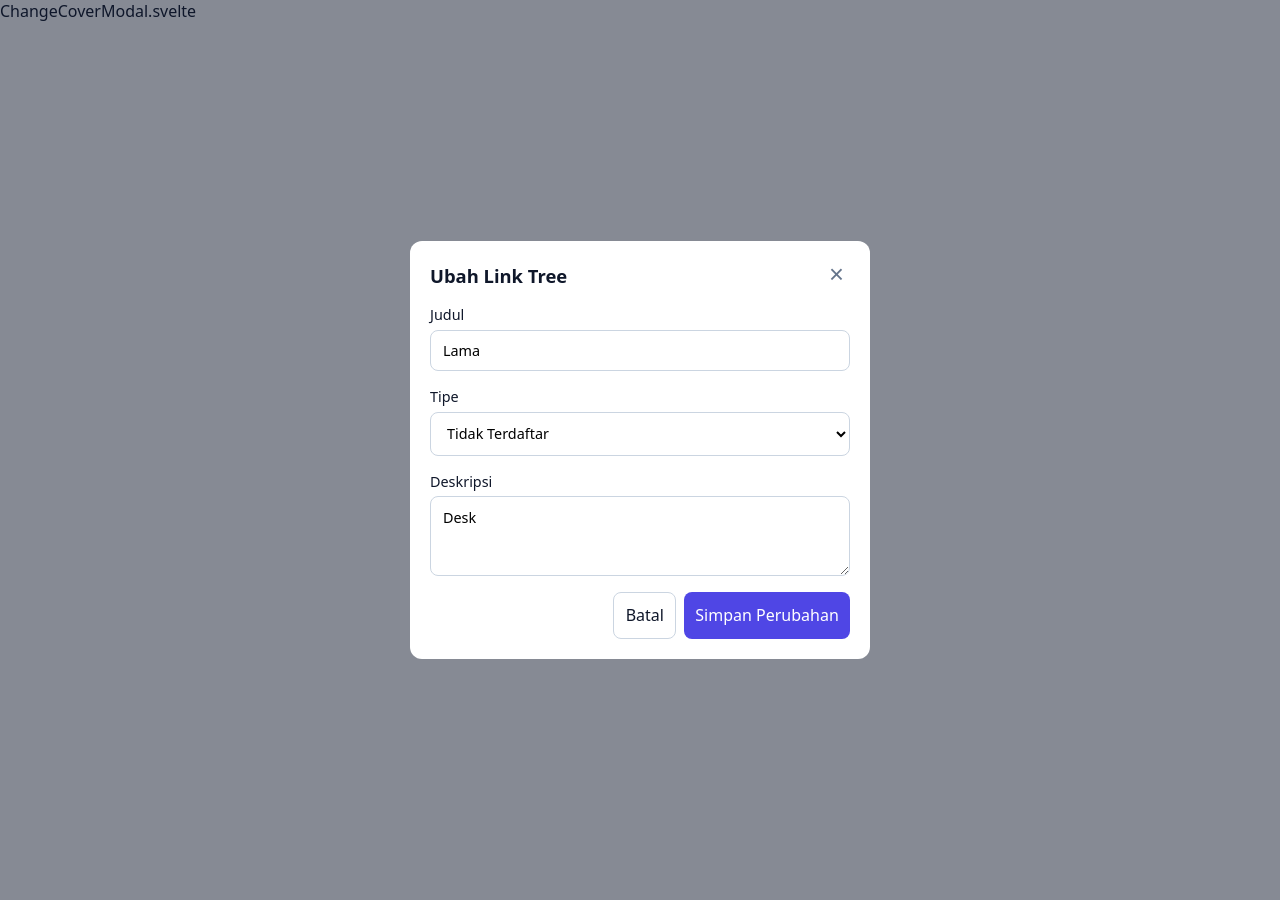
Test case: ChangeModal › menolak judul kosong
Clear the field labelled "Judul": (640, 350) [430, 330, 850, 371]
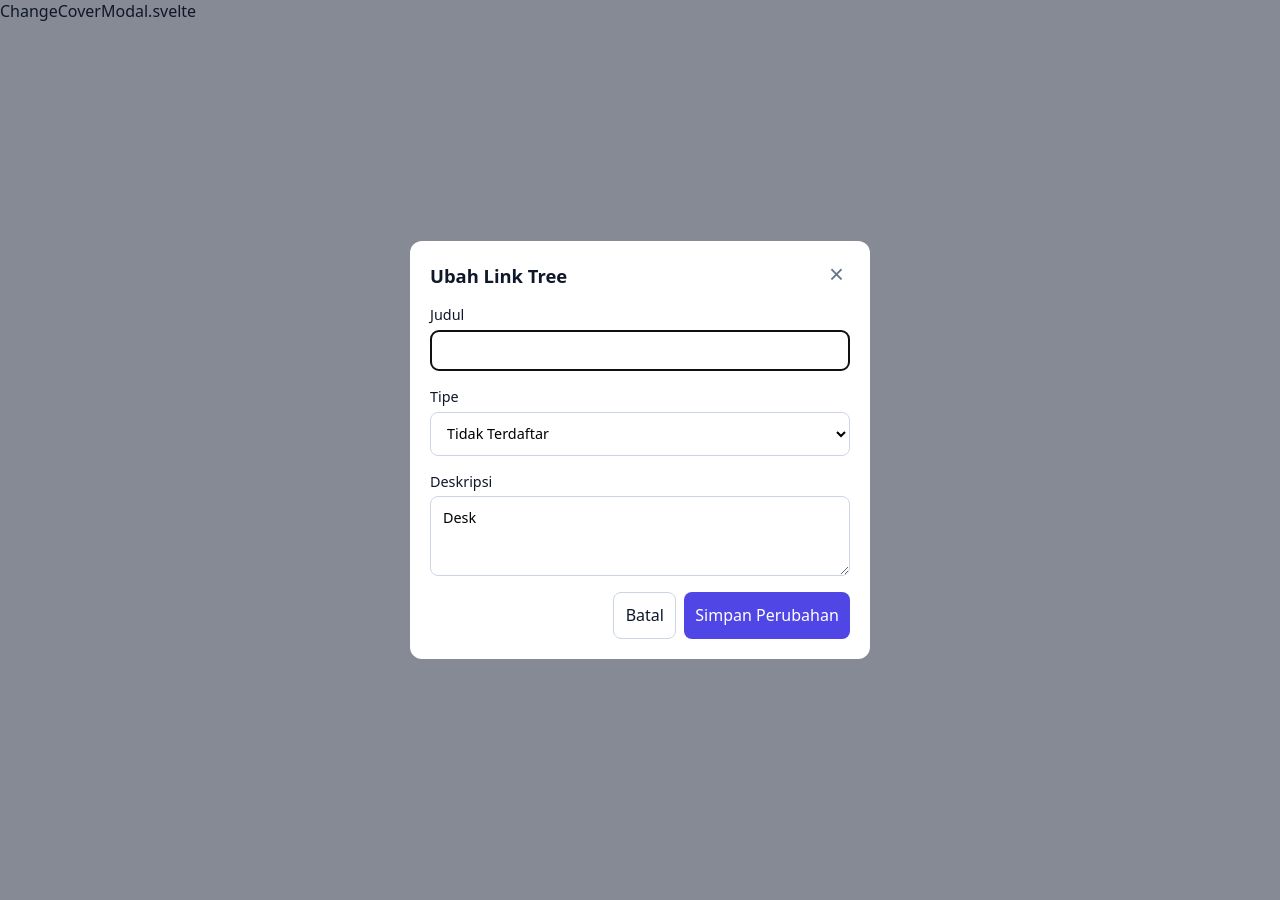
Click the button "Simpan Perubahan": (767, 615) [684, 592, 850, 639]
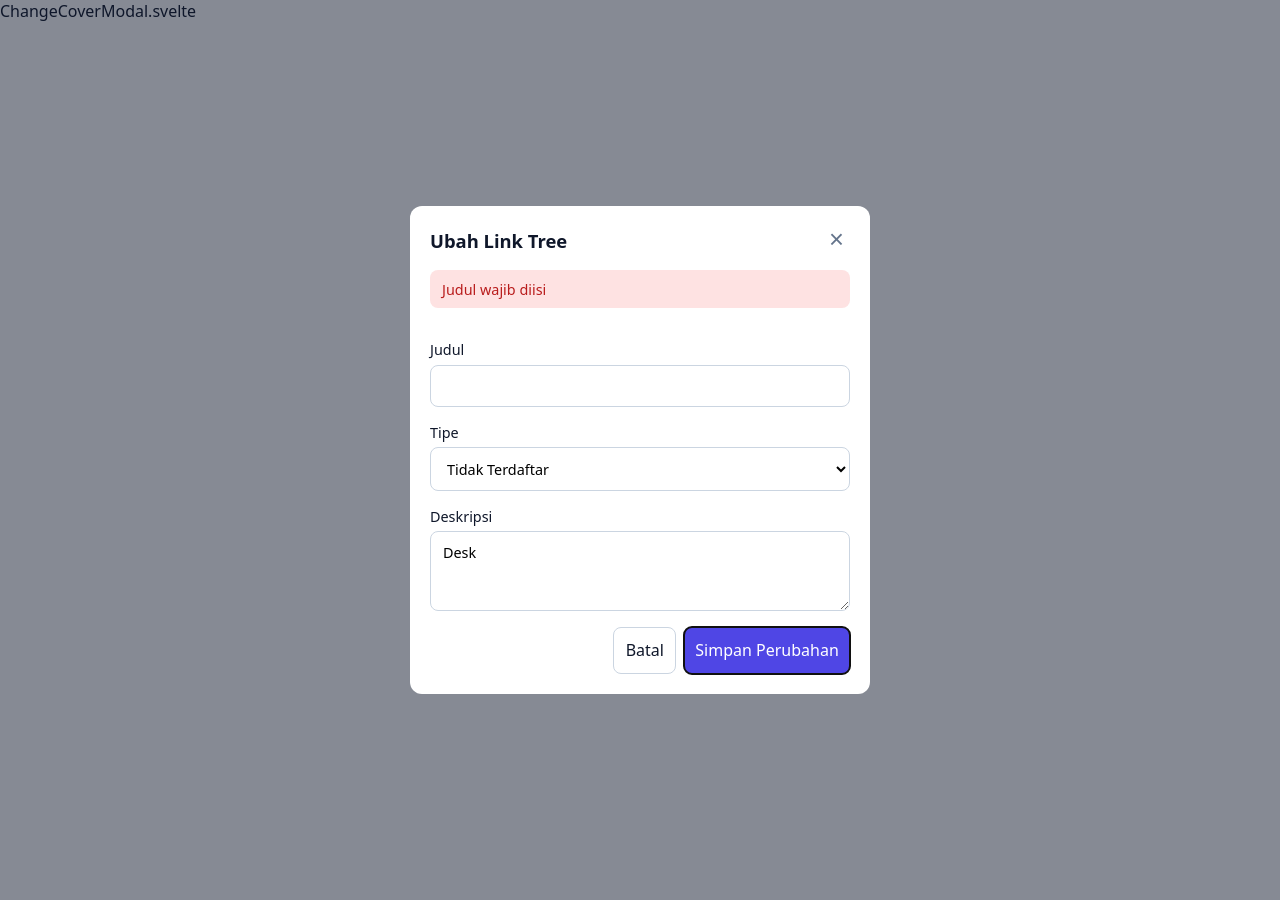
Expected: the text "Judul wajib diisi" is shown, [430, 270, 850, 308]
